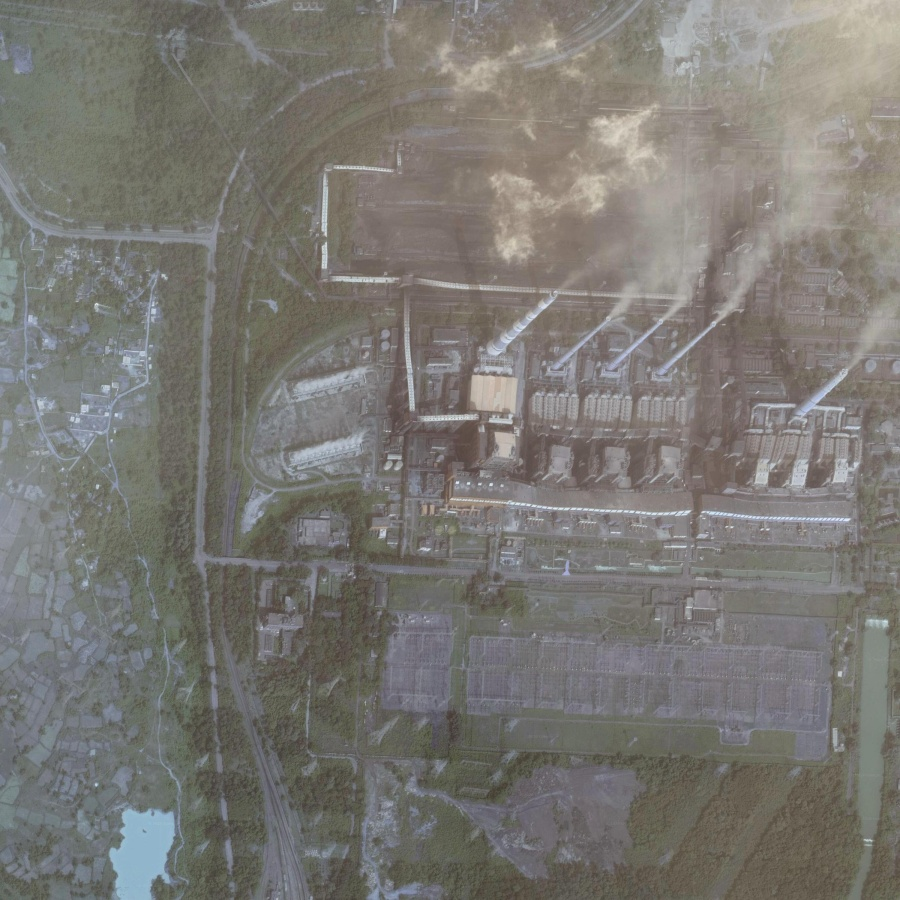PowerPlant: (326, 57, 887, 533)
